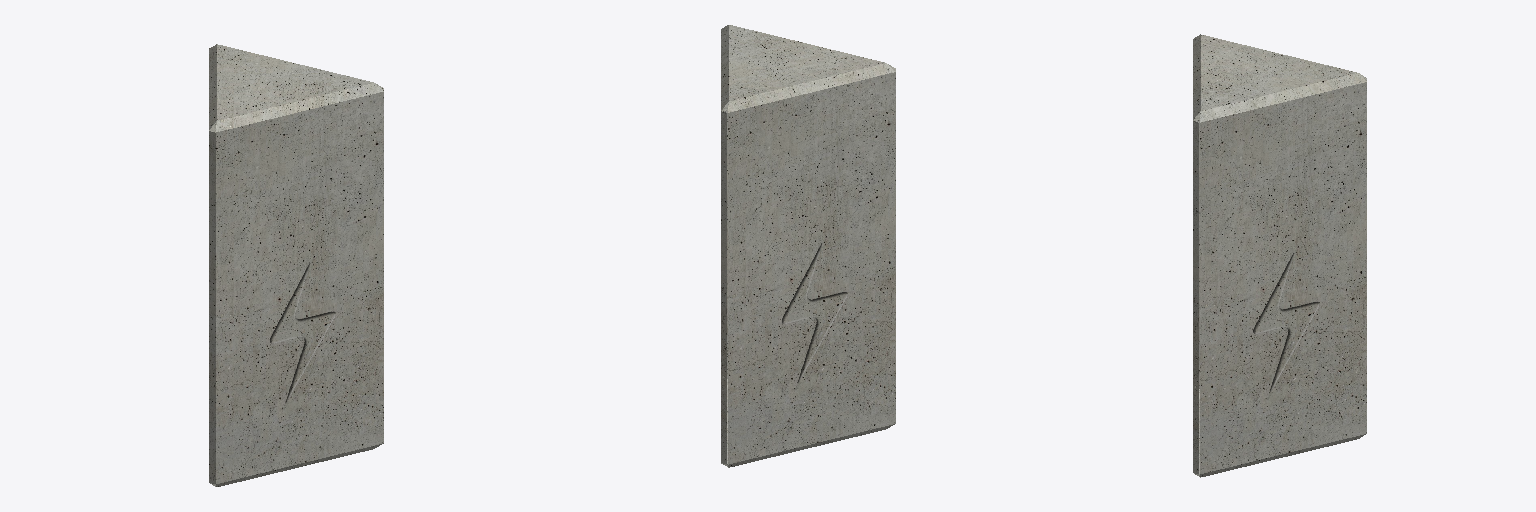
The picture shows the model from 3 angles: view 1: azimuth 30°, elevation 25°; view 2: azimuth 150°, elevation 25°; view 3: azimuth 270°, elevation 25°; orthographic projection.
Visible parts, largest first — view 1: Thunder_Circle.008; view 2: Thunder_Circle.008; view 3: Thunder_Circle.008.
Boxes of the visible parts, x1=… form: Thunder_Circle.008: x1=209, y1=44, x2=383, y2=486; Thunder_Circle.008: x1=721, y1=25, x2=895, y2=467; Thunder_Circle.008: x1=1193, y1=34, x2=1366, y2=477.
Bounding box in the file's own units: 0.2498 × 0.5 × 0.2163.
Materials: 1 (1 with a texture image).